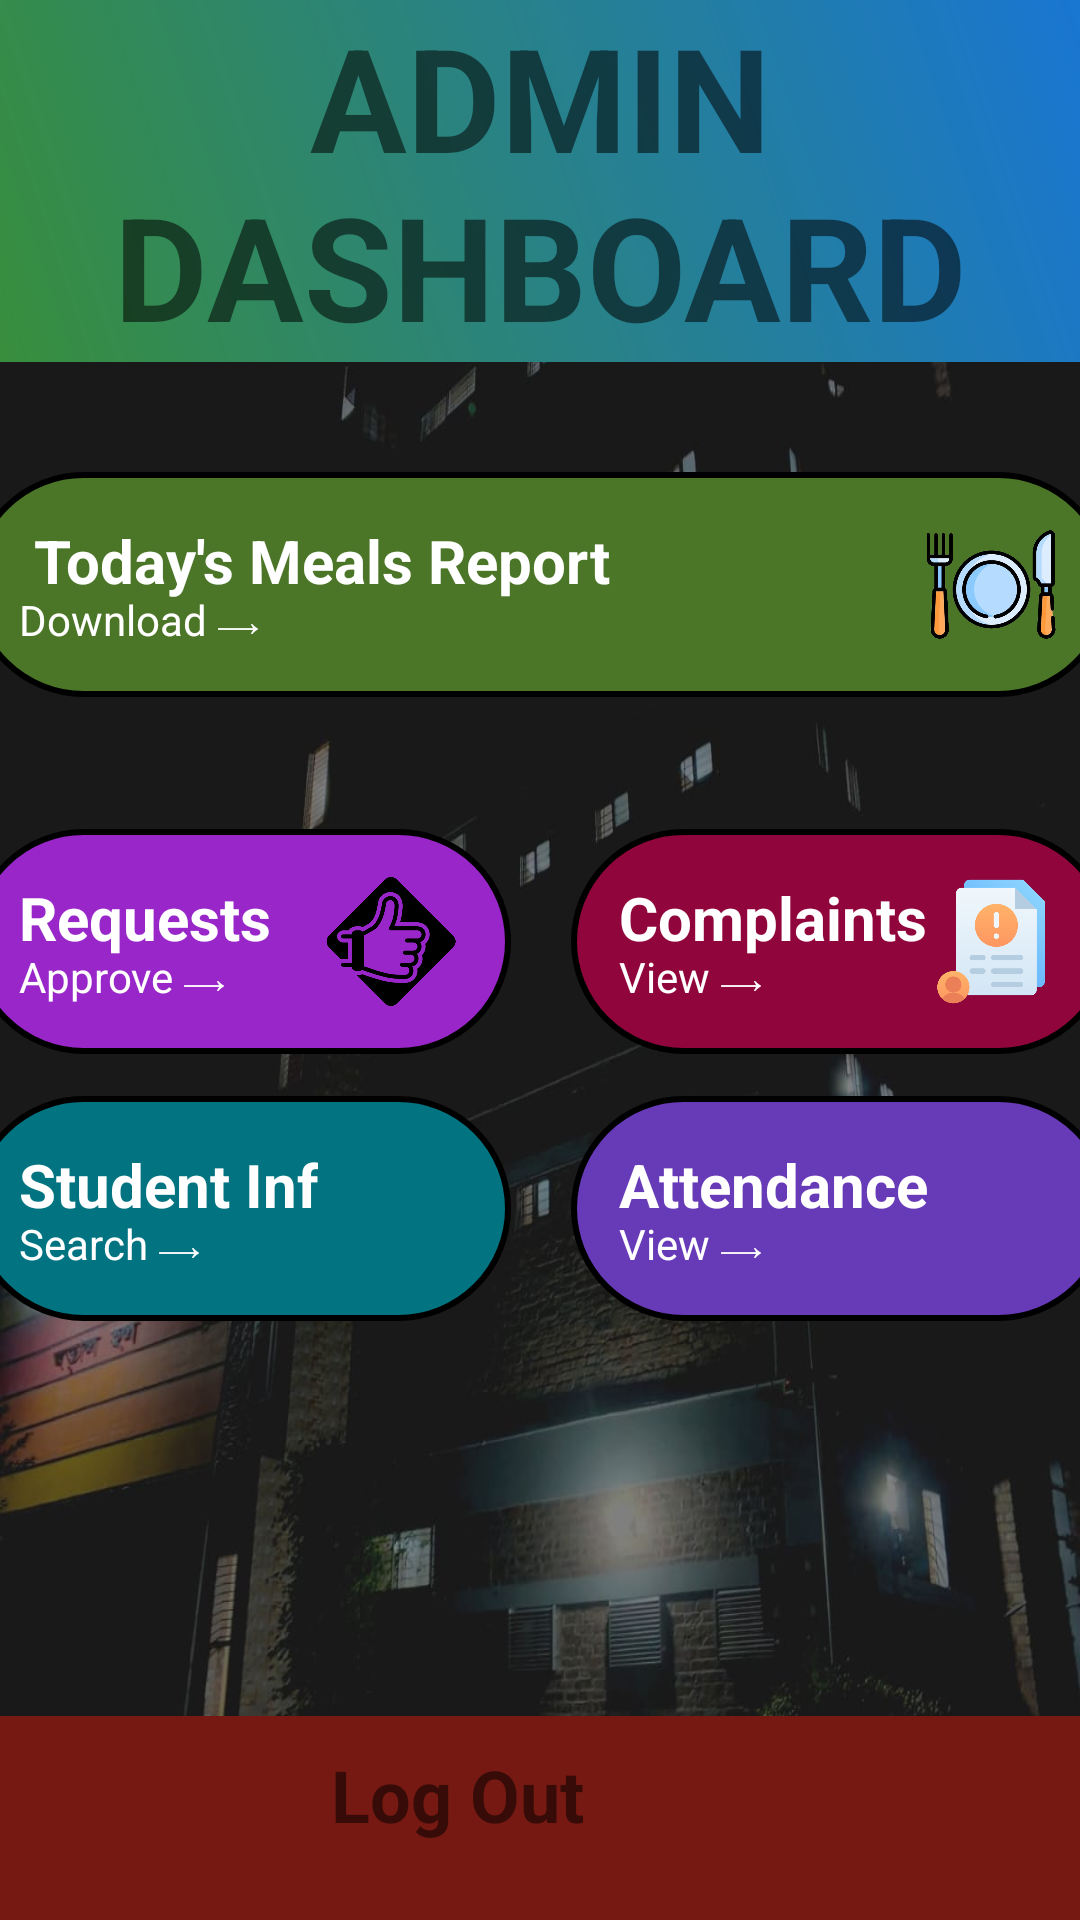

Screen size 1080 x 1920. Icon name, then its box in pixels as (x1, y1, x2, y2):
gesture: (327, 877, 456, 1006)
meal: (927, 530, 1056, 639)
report: (937, 879, 1045, 1004)
